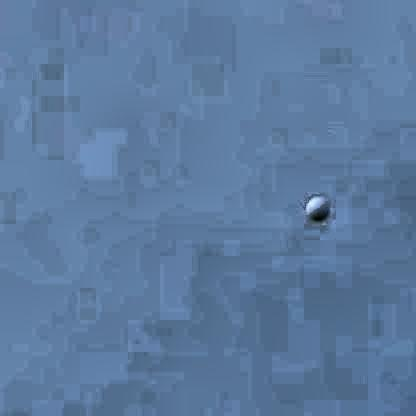golfball: (302, 188, 326, 218)
